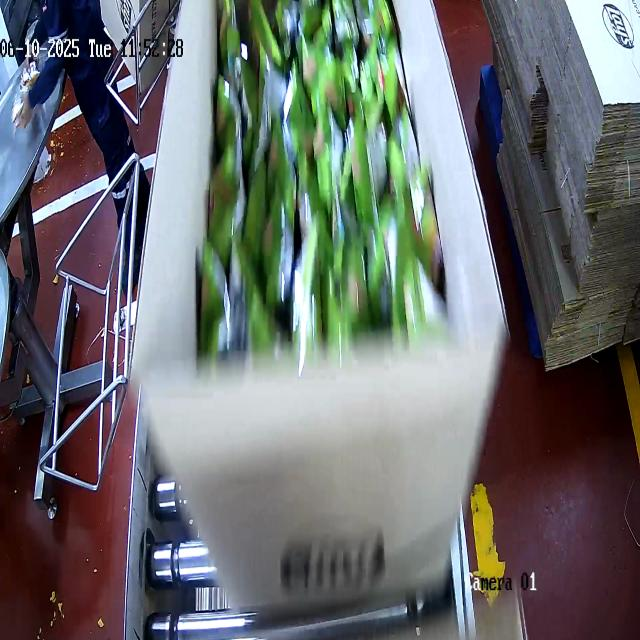YOGURT_HERB: (200, 0, 428, 360)
